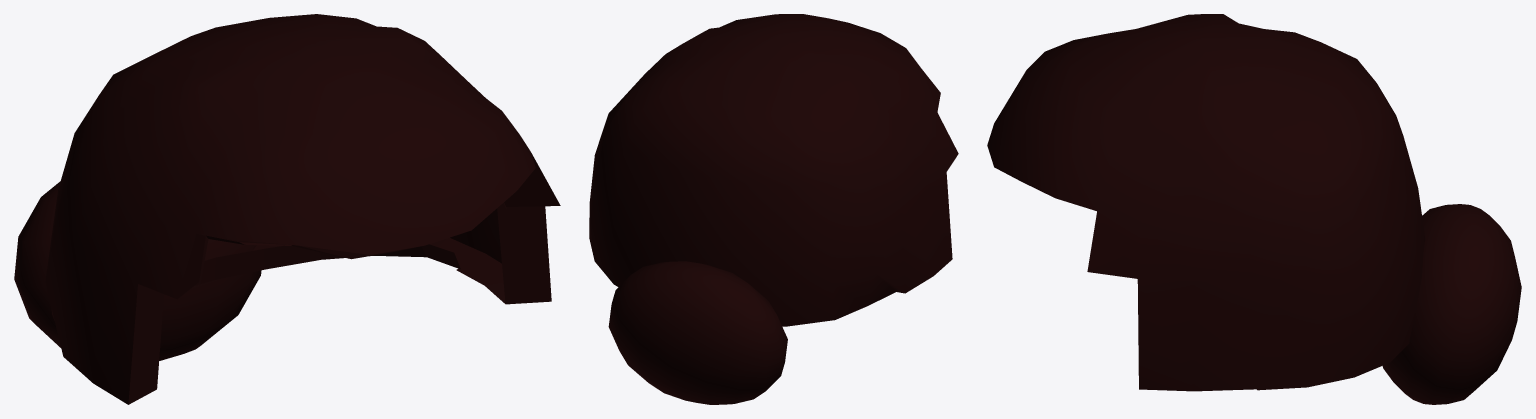
File: Lady_Hair.fbx
3 renders of one model, left to right at view 1: azimuth 30°, elevation 25°; view 2: azimuth 150°, elevation 25°; view 3: azimuth 270°, elevation 25°, orthographic. The views are drawn at different scales.
Parts seen in each view (by area): view 1: Simple_Hair; view 2: Simple_Hair; view 3: Simple_Hair.
Part boxes in pixels (bbox=[...]): Simple_Hair: bbox=[14, 14, 560, 404]; Simple_Hair: bbox=[589, 14, 958, 404]; Simple_Hair: bbox=[987, 14, 1521, 404].
Size of the model in its own units: 21.8 by 19.55 by 26.11.
